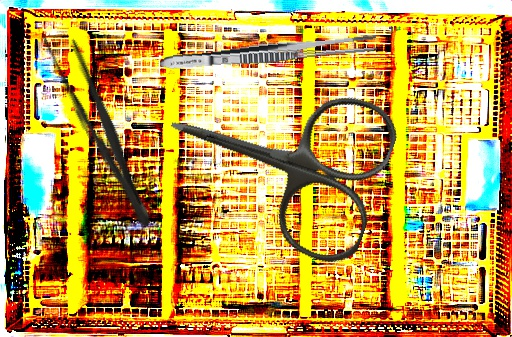Dressing Forceps: (36, 22, 165, 234), (158, 31, 379, 75)
Iris Scissors: (145, 43, 405, 272)
